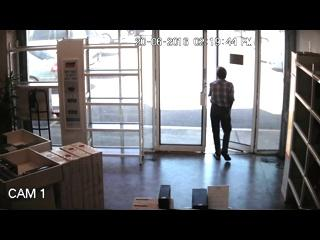Normal: (208, 66, 235, 162)
